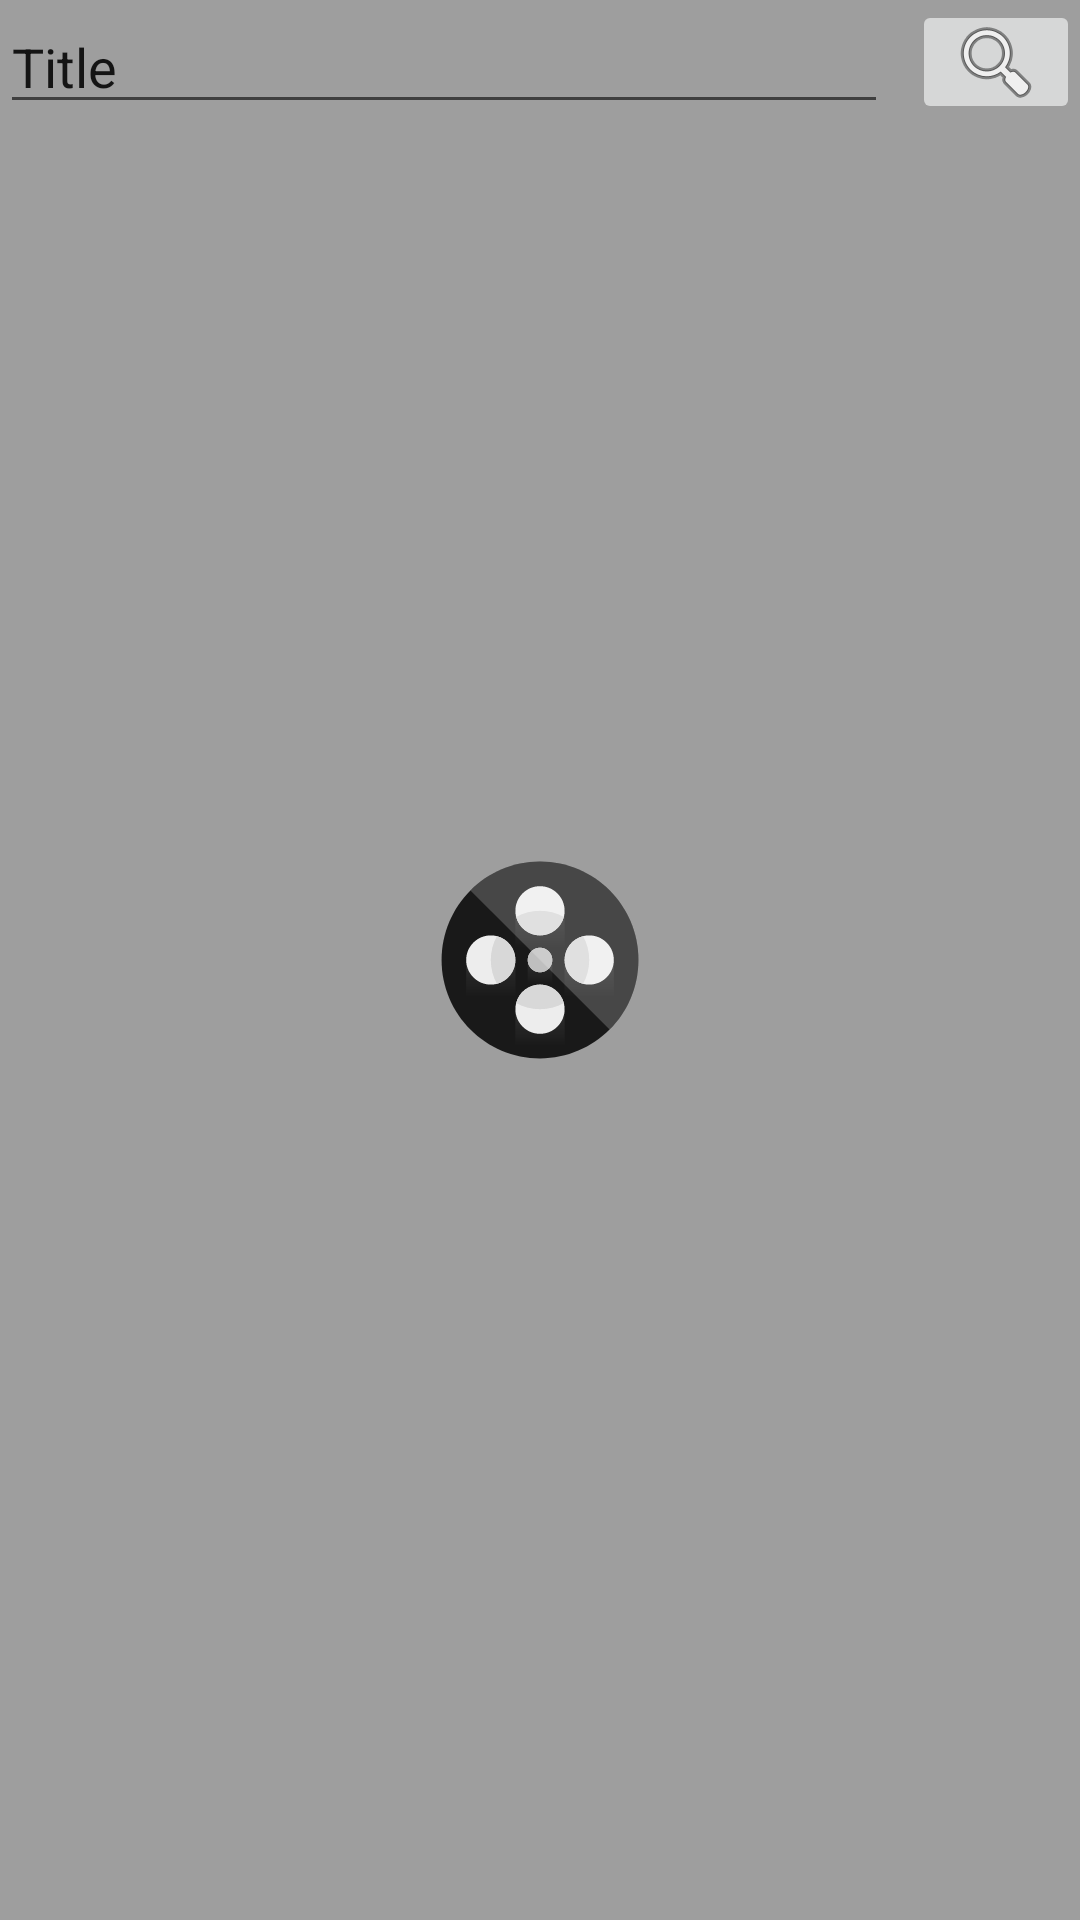

Named icons in this screenshot (1080px x 1920px) and their centers, (x=x, y=y):
Search: (x=996, y=62)
